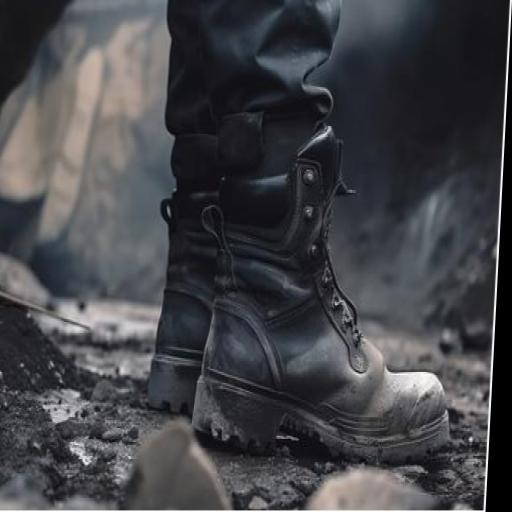safety_boots: (152, 172, 471, 460)
